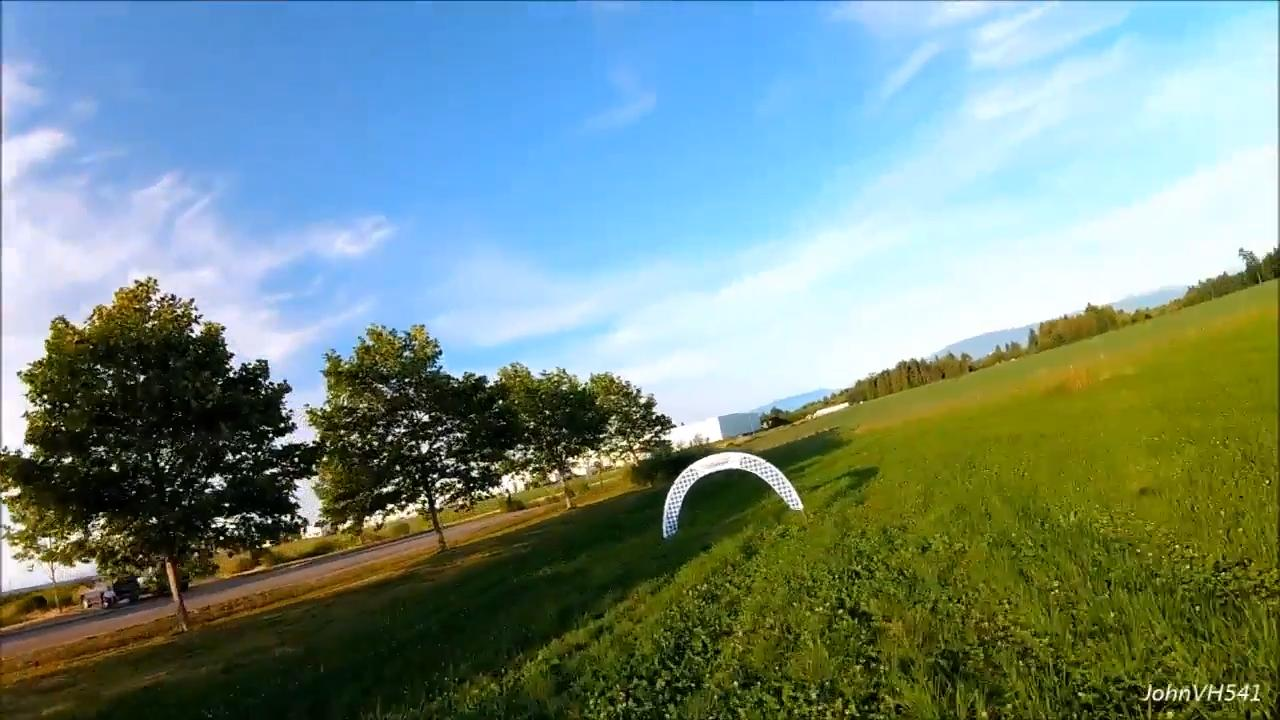gate: (664, 448, 804, 544)
